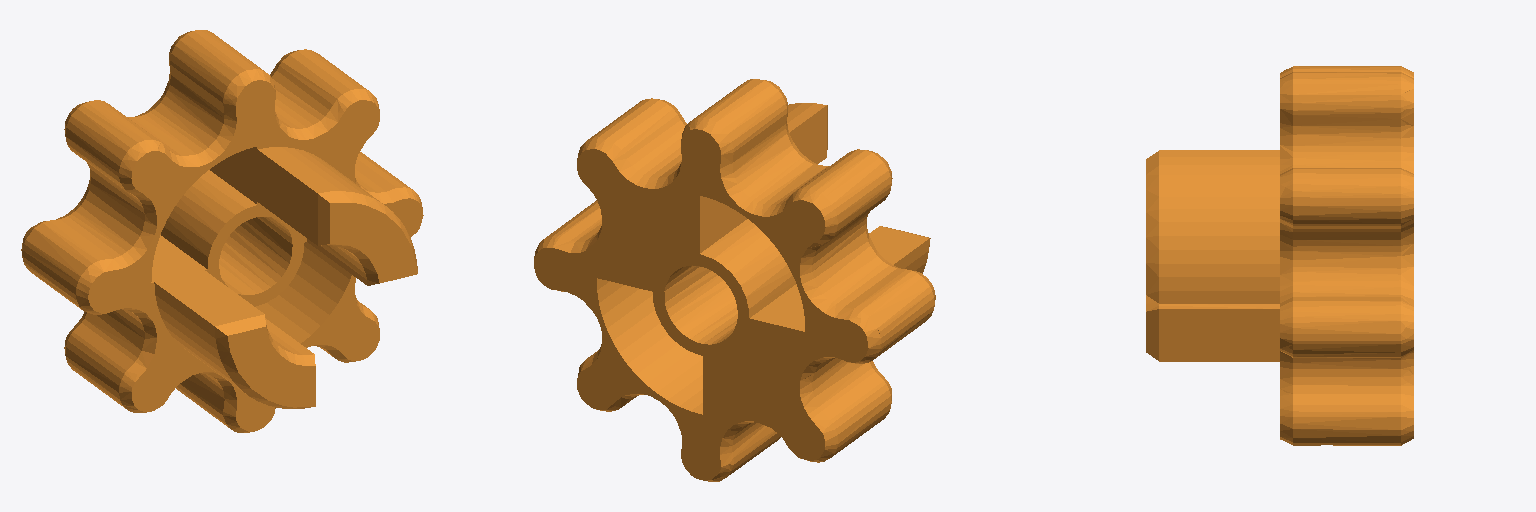
The model's file is tinker.obj.
3 renders of one model, left to right at view 1: azimuth 30°, elevation 25°; view 2: azimuth 150°, elevation 25°; view 3: azimuth 270°, elevation 25°, orthographic.
Visible parts, largest first — view 1: obj_0; view 2: obj_0; view 3: obj_0.
Boxes of the visible parts, box(x1,y1,x2,y2) form: obj_0: box(21, 30, 423, 432); obj_0: box(534, 79, 935, 481); obj_0: box(1146, 66, 1413, 445).
Size of the model in its own units: 29.88 by 29.88 by 20.